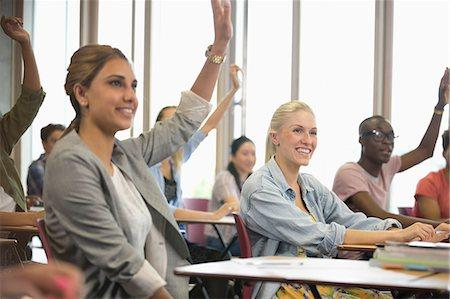study: (47, 0, 226, 299), (330, 66, 450, 230)
